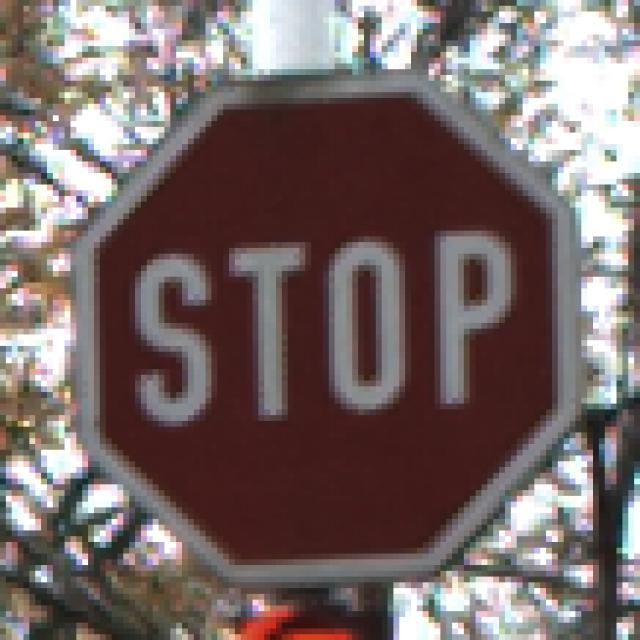STOP: (60, 59, 588, 583)
